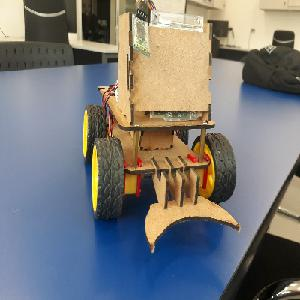Robot: (81, 11, 241, 252)
